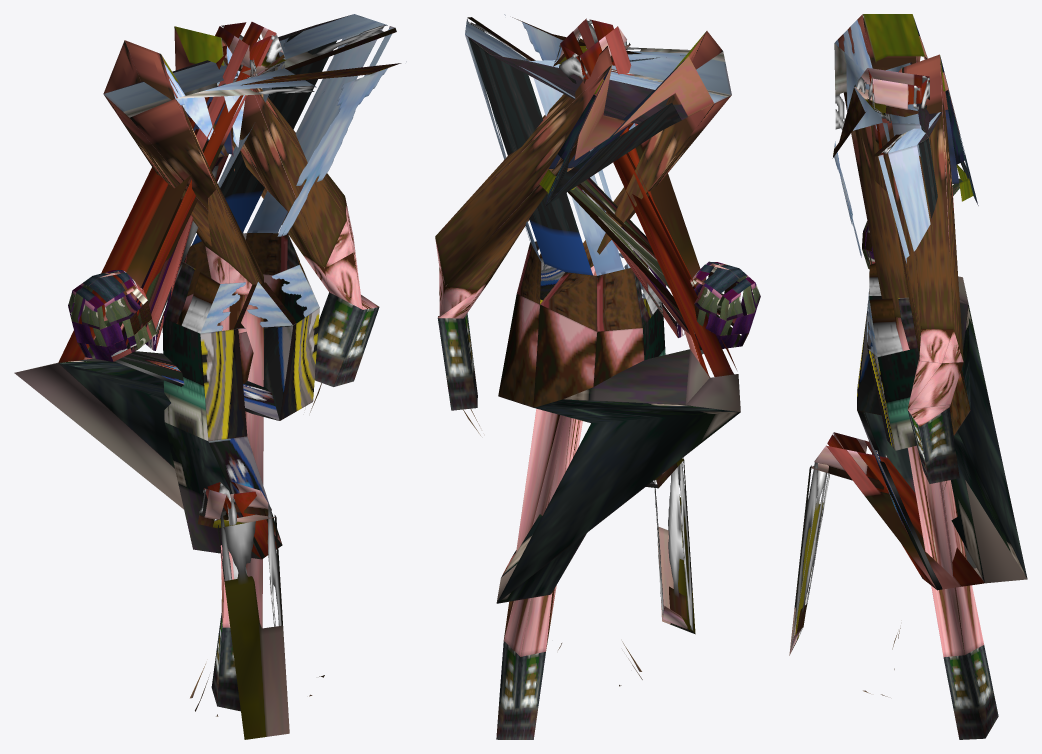
3 views of the same model, side by side, from view 1: azimuth 30°, elevation 25°; view 2: azimuth 150°, elevation 25°; view 3: azimuth 270°, elevation 25° (orthographic). The views are drawn at different scales.
Parts seen in each view (by area): view 1: T1L3M001_10; view 2: T1L3M001_10; view 3: T1L3M001_10.
Part boxes in pixels (x1=…): T1L3M001_10: x1=14, y1=14, x2=406, y2=739; T1L3M001_10: x1=435, y1=14, x2=760, y2=739; T1L3M001_10: x1=789, y1=14, x2=1027, y2=739.
Size of the model in its own units: 1.04 by 2.13 by 0.6958.
